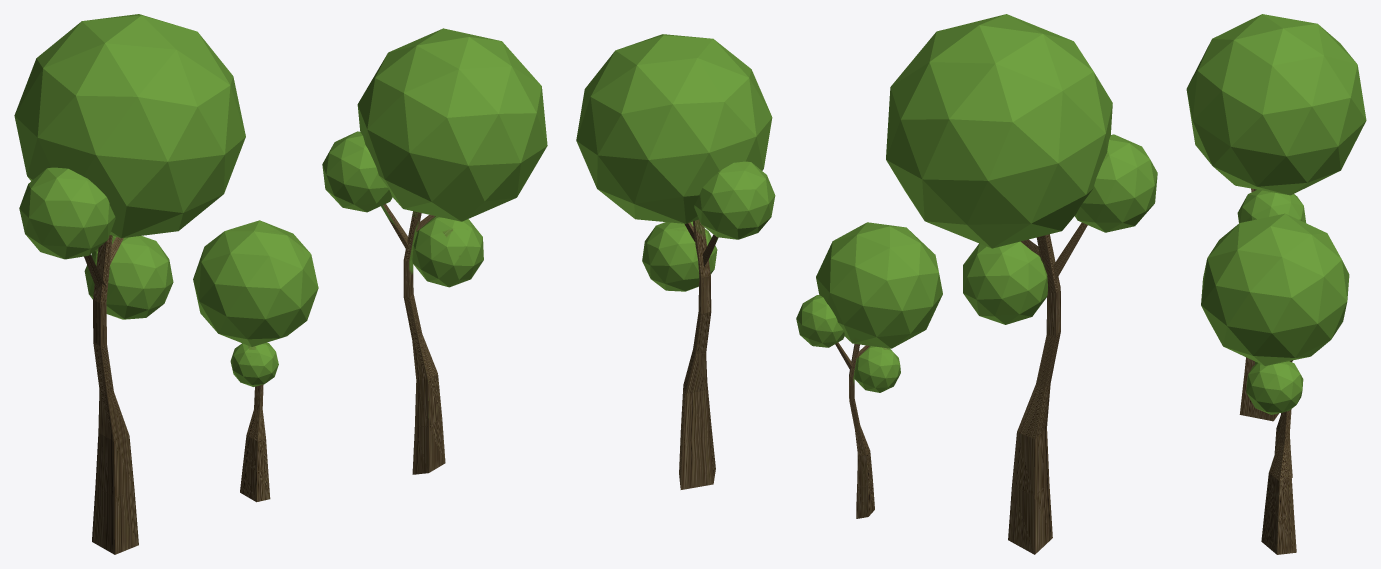
The model's file is Alberi 1.fbx.
The picture shows the model from 3 angles, left to right: view 1: azimuth 30°, elevation 25°; view 2: azimuth 150°, elevation 25°; view 3: azimuth 270°, elevation 25°; orthographic projection. The views are drawn at different scales.
Parts seen in each view (by area): view 1: Piante; view 2: Piante; view 3: Piante.
Part boxes in pixels (x1,y1,x2,y2): Piante: (14,14,547,554); Piante: (576,14,1157,554); Piante: (1186,14,1366,554).
Size of the model in its own units: 510 by 478 by 189.
